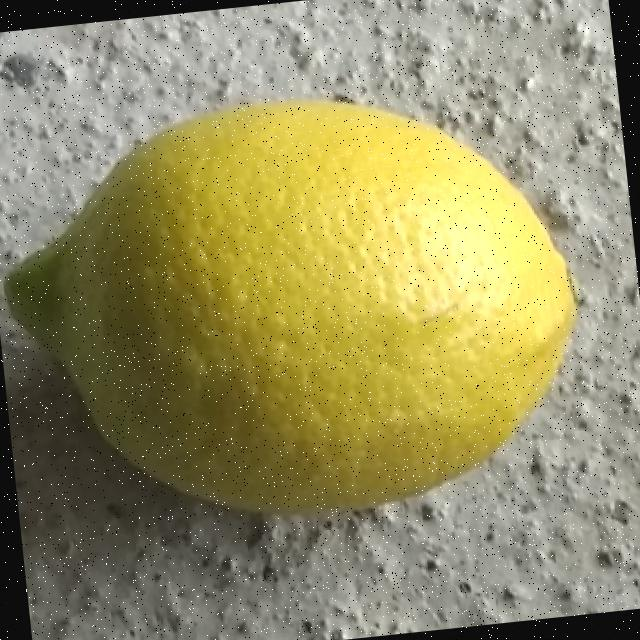Lemon: (0, 69, 601, 541)
